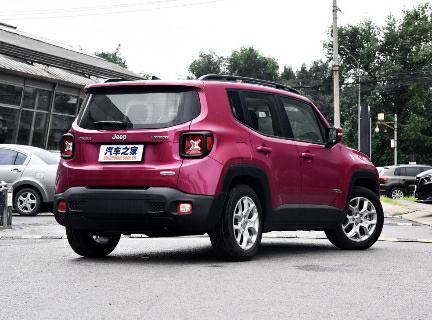Jeep-自由侠: (54, 76, 393, 265)
